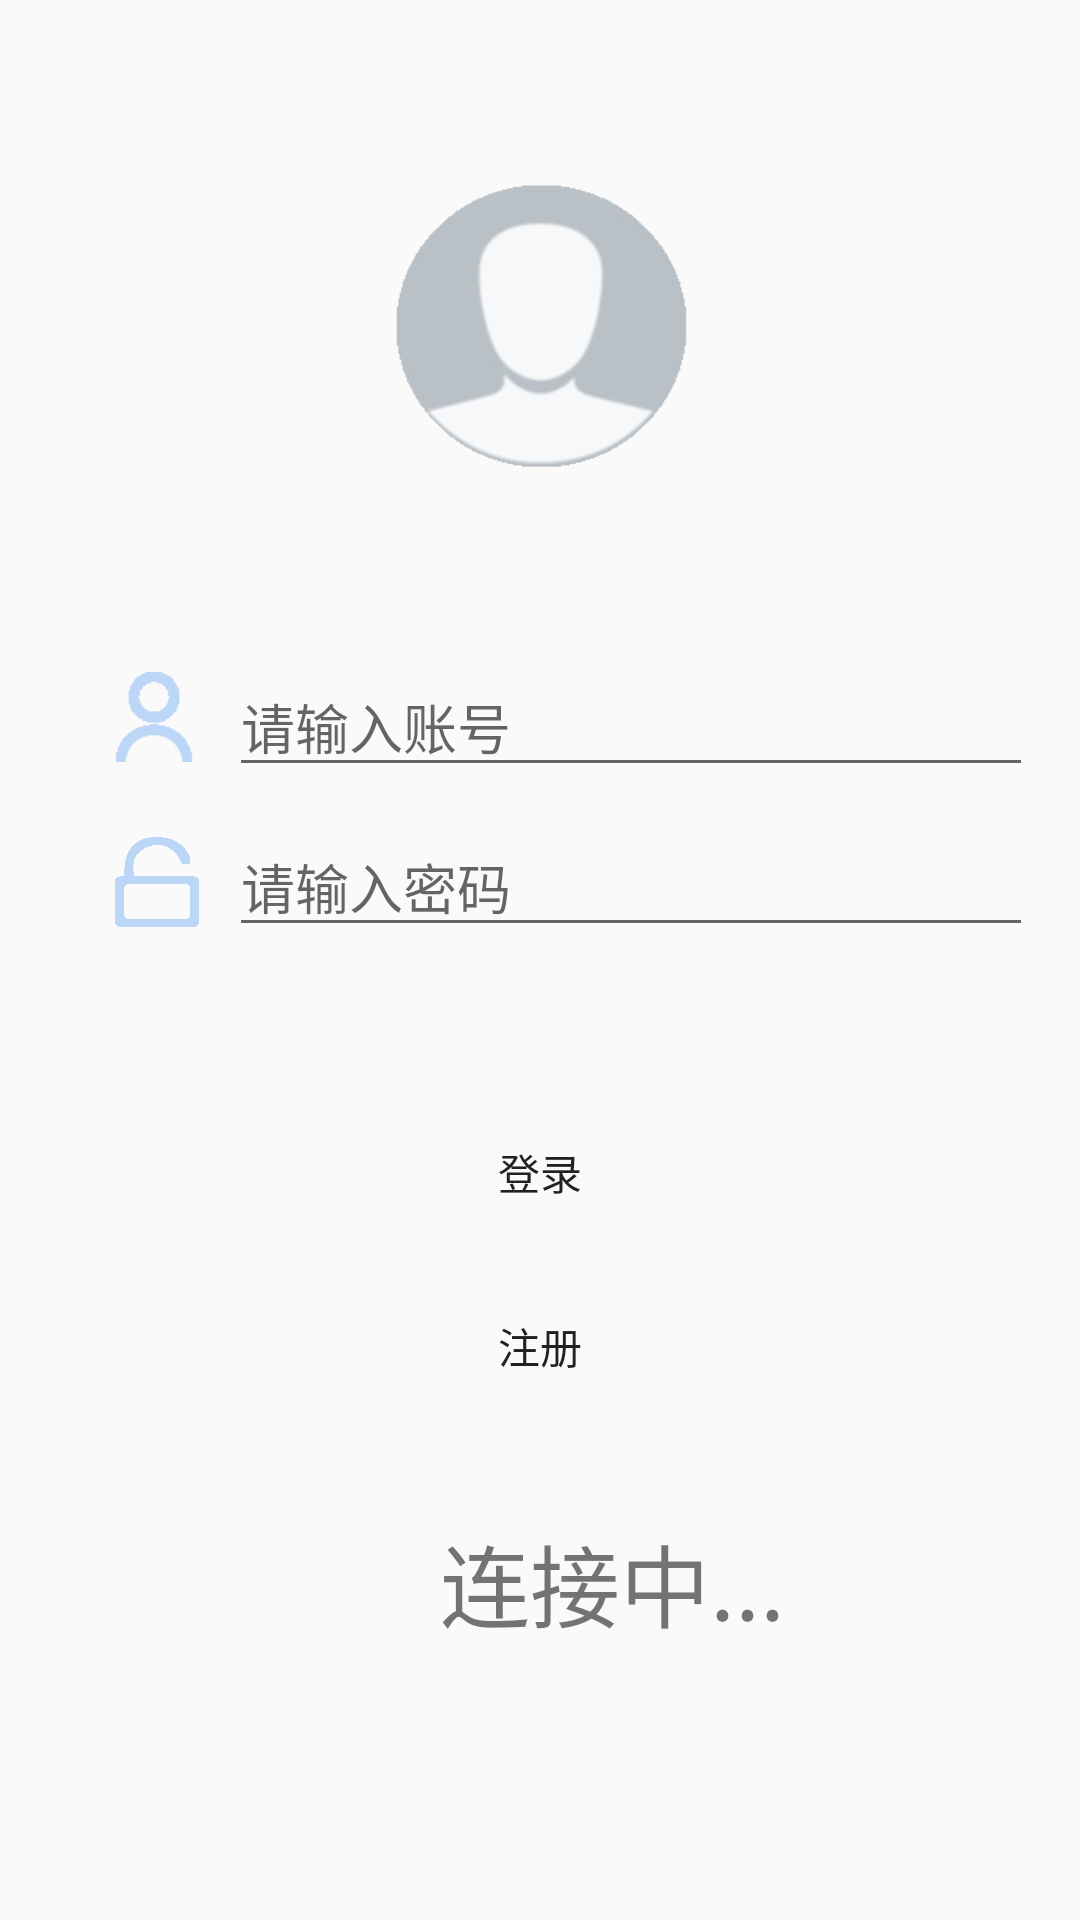

Named icons in this screenshot (1080px x 1920px) and their bounding boxes, [left=x1, top=y1, right=x2, bottom=y2]:
login picture: [left=397, top=185, right=686, bottom=467]
user id: [left=116, top=672, right=192, bottom=762]
user pw: [left=115, top=837, right=199, bottom=927]
